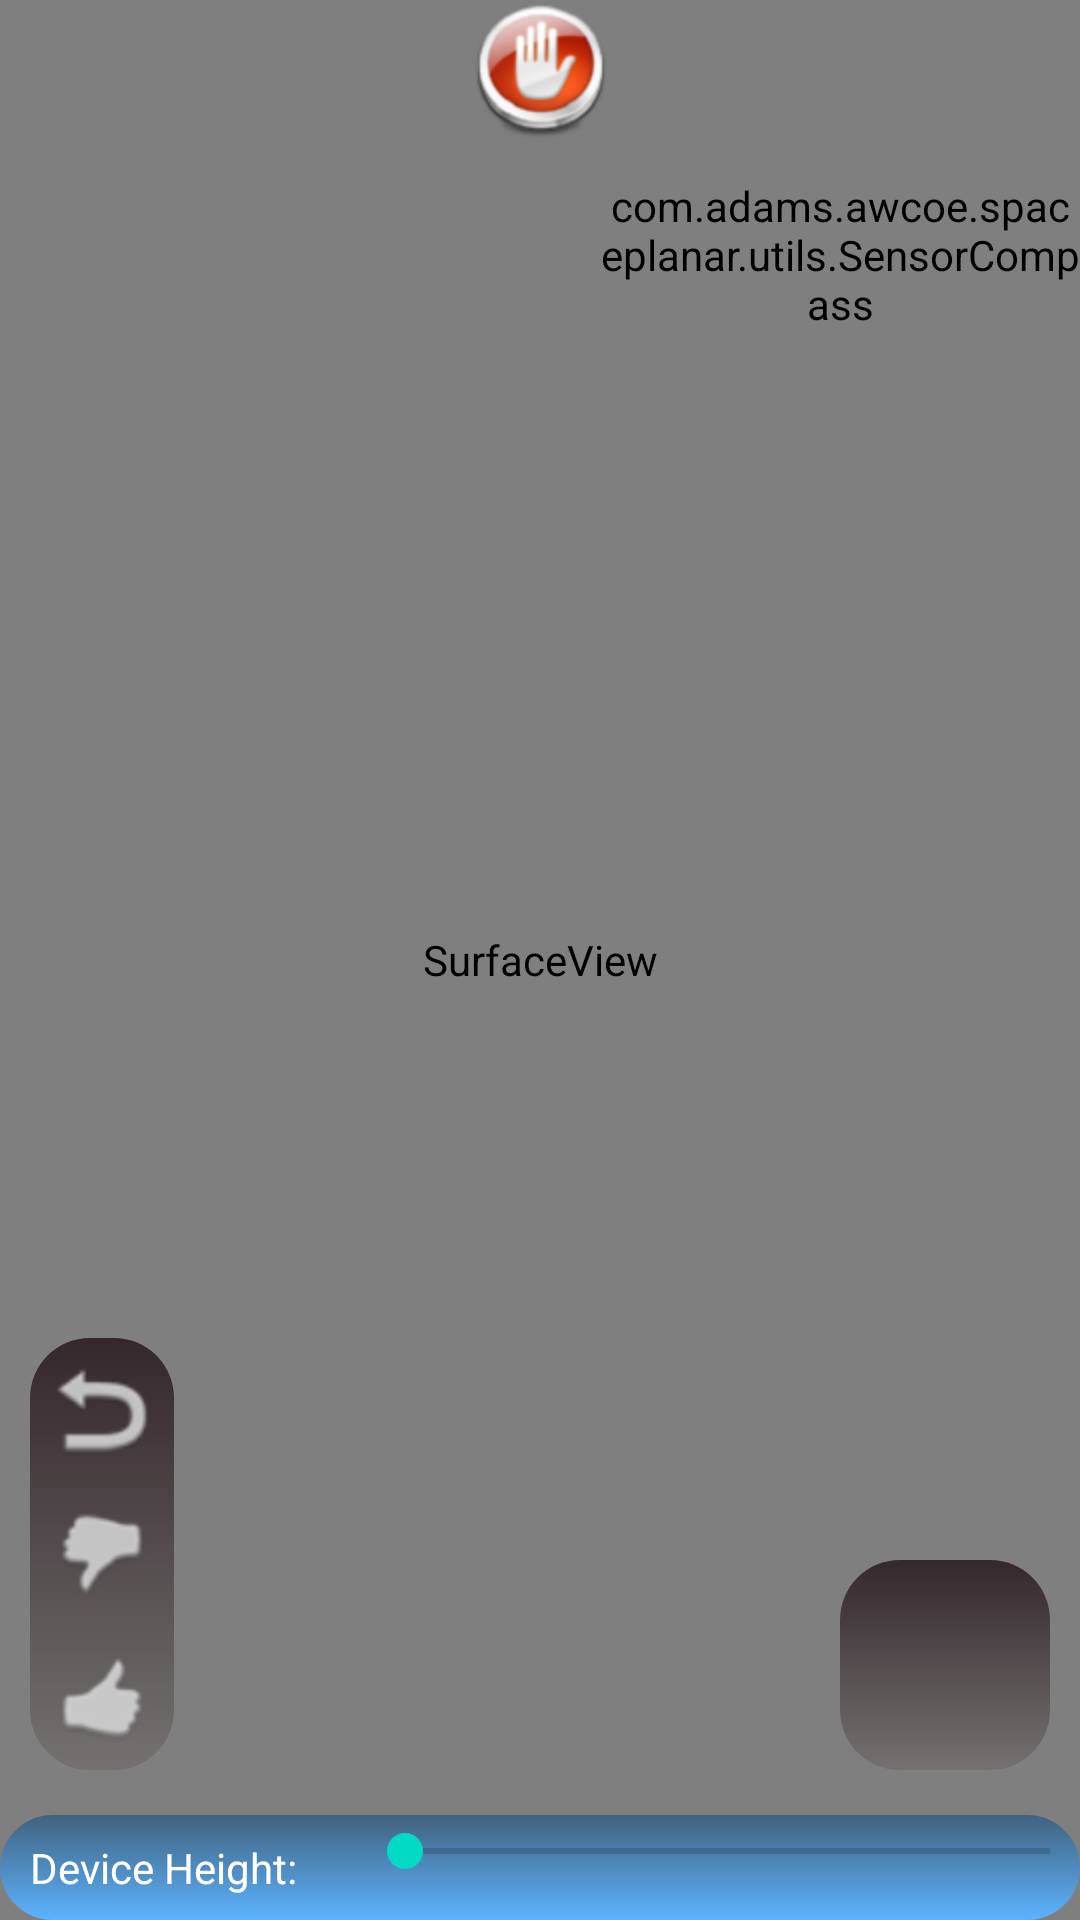

Named icons in this screenshot (1080x1920) and their bounding boxes, (x1, y1, x2, y2):
room newmap done: (30, 1626, 174, 1740)
